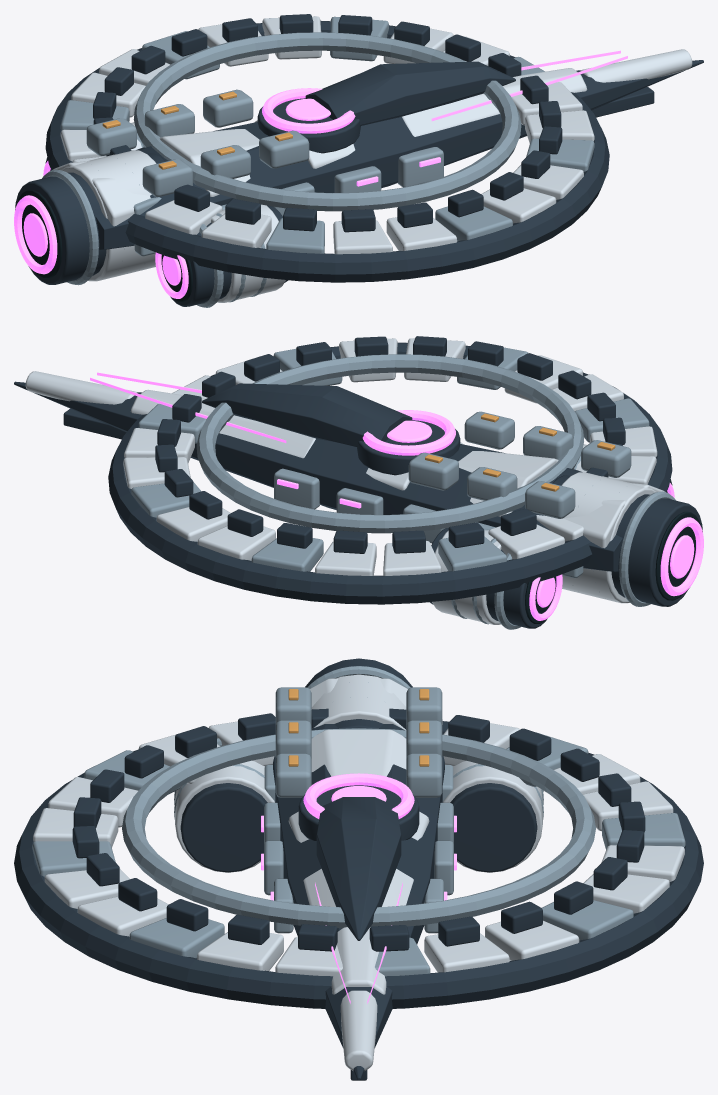
The model's file is ship-10.glb.
3 views of the same model, one above another, from view 1: azimuth 30°, elevation 25°; view 2: azimuth 150°, elevation 25°; view 3: azimuth 270°, elevation 25° (orthographic). The views are drawn at different scales.
Parts seen in each view (by area): view 1: Graphite frame, Machined silver, Ceramic titanium, Ion violet, Carbon insets, Copper contacts; view 2: Graphite frame, Machined silver, Ceramic titanium, Ion violet, Carbon insets, Copper contacts; view 3: Graphite frame, Machined silver, Ceramic titanium, Ion violet, Copper contacts.
Boxes of the visible parts, left/top/right/bottom form: Graphite frame: left=15, top=14, right=703, bottom=306; Machined silver: left=42, top=16, right=594, bottom=307; Ceramic titanium: left=53, top=16, right=692, bottom=302; Ion violet: left=14, top=50, right=627, bottom=298; Carbon insets: left=17, top=159, right=192, bottom=302; Copper contacts: left=102, top=91, right=292, bottom=169; Graphite frame: left=14, top=336, right=702, bottom=628; Machined silver: left=131, top=344, right=675, bottom=629; Ceramic titanium: left=25, top=338, right=664, bottom=624; Ion violet: left=90, top=372, right=703, bottom=620; Carbon insets: left=525, top=481, right=700, bottom=623; Copper contacts: left=425, top=413, right=615, bottom=491; Graphite frame: left=14, top=658, right=703, bottom=1080; Machined silver: left=32, top=666, right=685, bottom=976; Ceramic titanium: left=33, top=674, right=684, bottom=1070; Ion violet: left=261, top=773, right=456, bottom=1003; Copper contacts: left=288, top=689, right=429, bottom=766.
Bounding box in the file's own units: 6 × 1.14 × 4.57.
